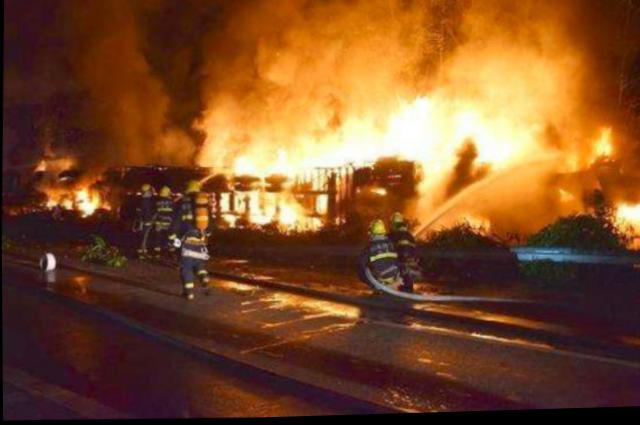fire: (199, 52, 612, 234), (35, 156, 108, 216), (614, 203, 639, 240)
